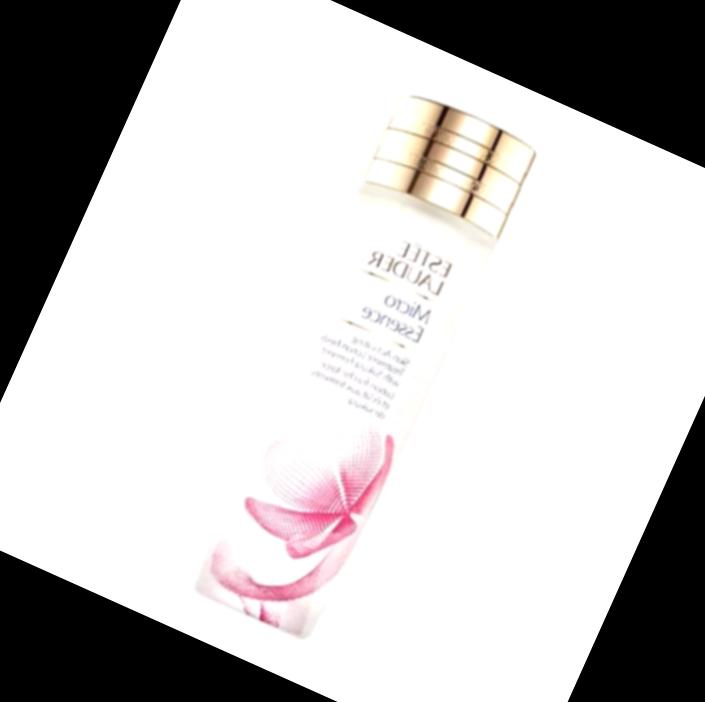cosmetic: (183, 91, 532, 643)
